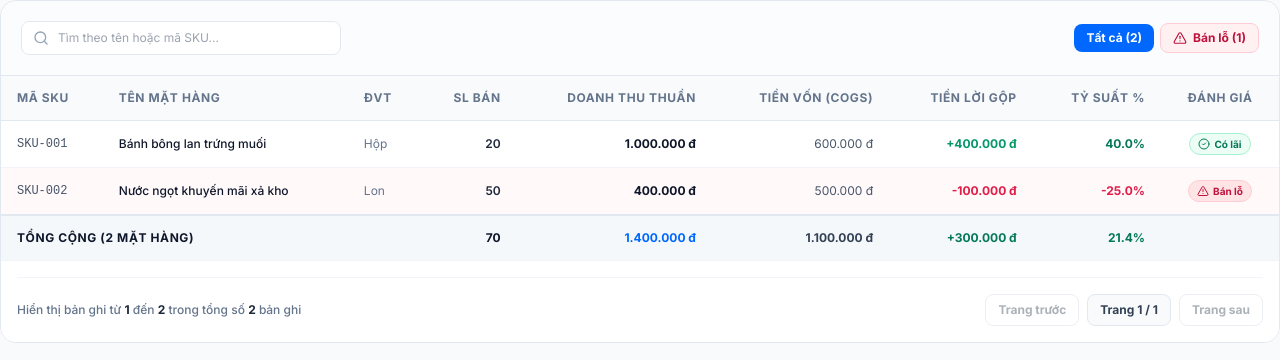
NCL-07-CN-008: Báo cáo lãi gộp theo ngày và theo mặt hàng › renders GrossProfitTable and highlights items with negative margins
This screenshot has width=1280, height=360.
Expected: the text "Bánh bông lan trứng muối" is shown, x1=103 y1=120 x2=348 y2=168
Expected: the text "Nước ngọt khuyến mãi xả kho" is shown, x1=103 y1=168 x2=348 y2=215
Toggle filter to only negative items
Step 1. Click the button "Bán lỗ (1)" → (1210, 38), box x1=1160 y1=23 x2=1259 y2=53
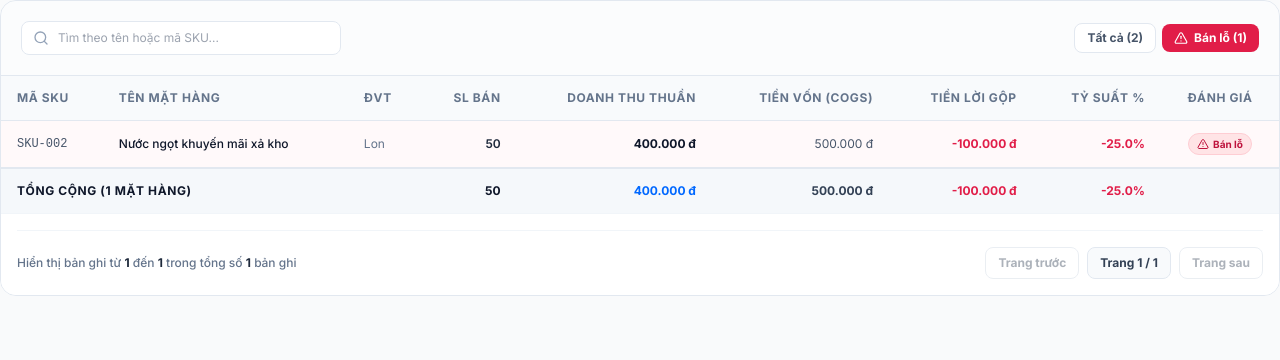
Expected: the text "Nước ngọt khuyến mãi xả kho" is shown, x1=103 y1=120 x2=348 y2=168
Result: the text "Bánh bông lan trứng muối" is gone
